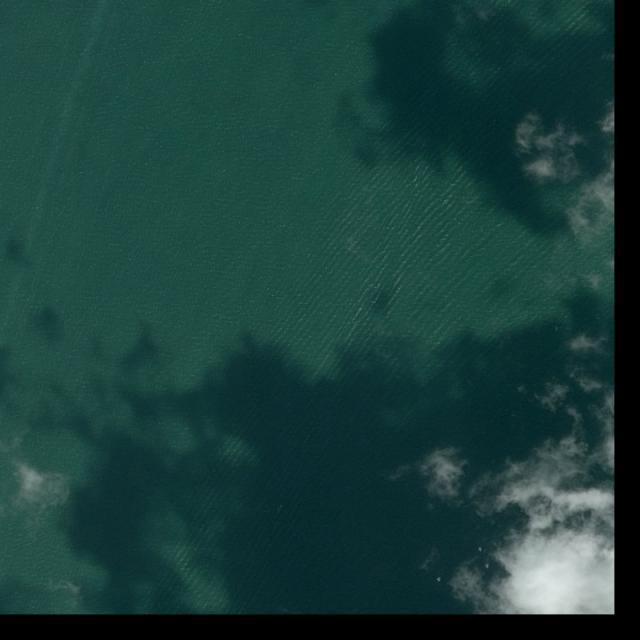ship: (477, 546, 482, 553), (485, 563, 490, 569), (436, 577, 442, 582)
